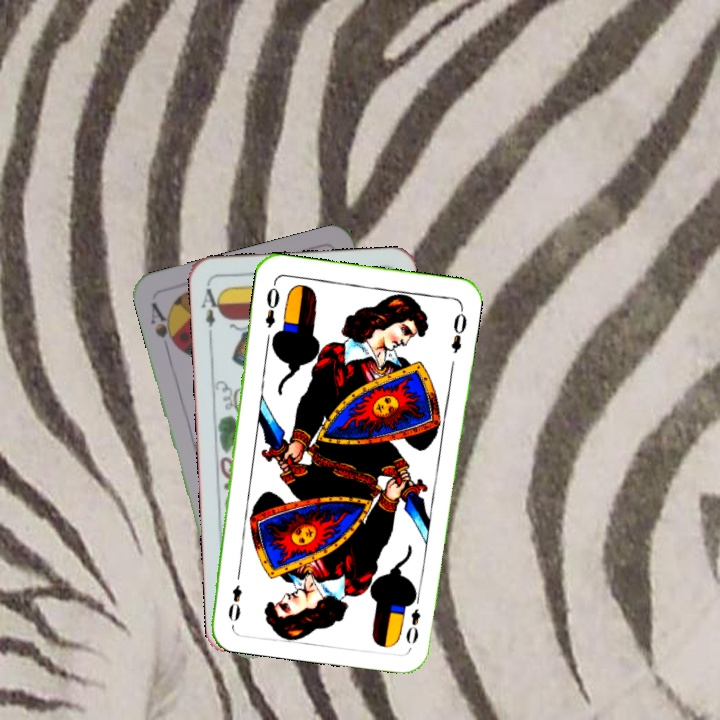EA: (197, 281, 224, 340)
EO: (402, 590, 423, 646), (261, 278, 282, 330)
SA: (146, 299, 181, 355)
